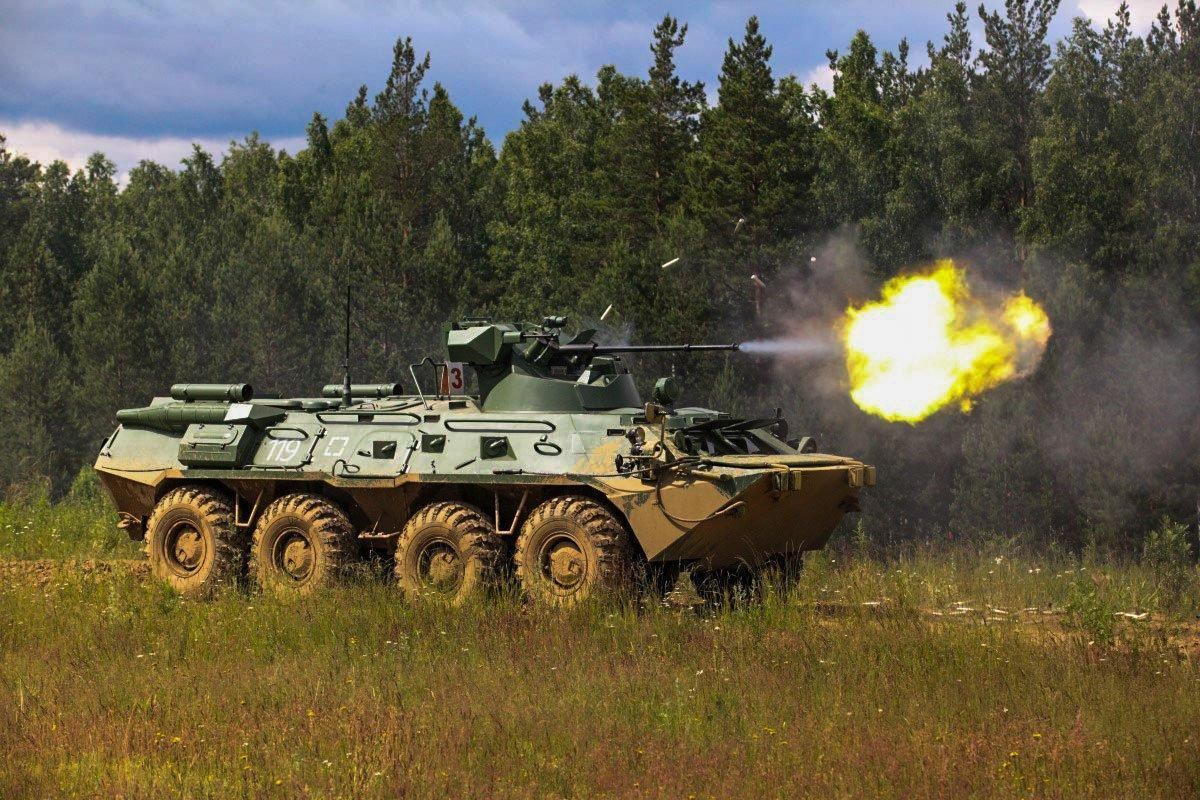tank: (92, 313, 879, 615)
